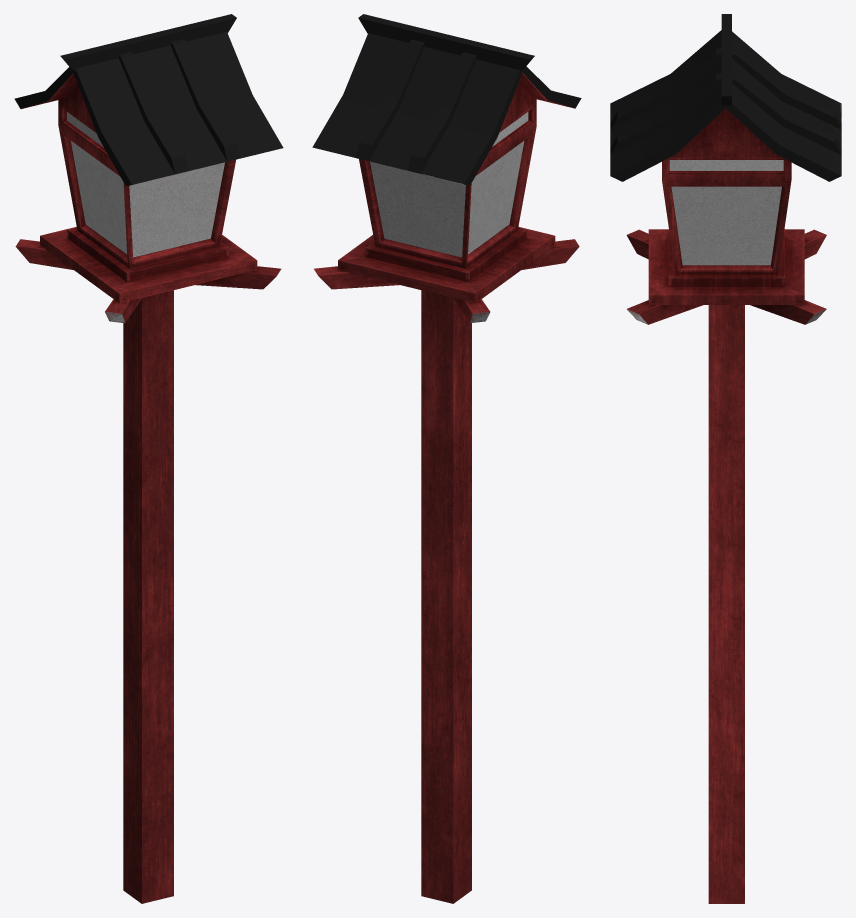
The model's file is japan_old_lamp.glb.
The picture shows the model from 3 angles, left to right: view 1: azimuth 30°, elevation 25°; view 2: azimuth 150°, elevation 25°; view 3: azimuth 270°, elevation 25°; orthographic projection.
Parts seen in each view (by area): view 1: pCube7; view 2: pCube7; view 3: pCube7.
Boxes of the visible parts, <box> form: pCube7: <box>14,14,283,903</box>; pCube7: <box>312,14,581,903</box>; pCube7: <box>610,14,841,903</box>.
Size of the model in its own units: 38.56 by 178 by 44.48.
Materials: 1 (1 with a texture image).
